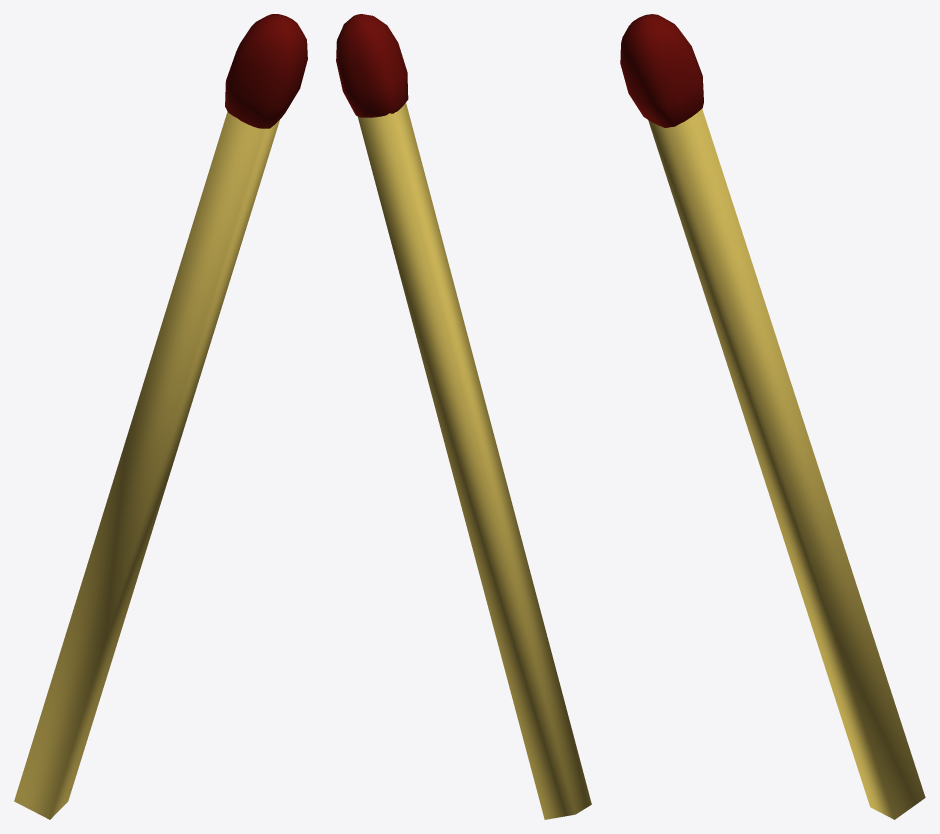
The picture shows the model from 3 angles, left to right: view 1: azimuth 30°, elevation 25°; view 2: azimuth 210°, elevation 25°; view 3: azimuth 270°, elevation 25°; orthographic projection. The views are drawn at different scales.
Parts seen in each view (by area): view 1: Sphere.006; view 2: Sphere.006; view 3: Sphere.006.
Boxes of the visible parts, x1,y1,x2,y2 form: Sphere.006: (14, 14, 307, 819); Sphere.006: (336, 14, 591, 819); Sphere.006: (620, 14, 925, 819).
Size of the model in its own units: 0.227 by 1.13 by 0.3676.
